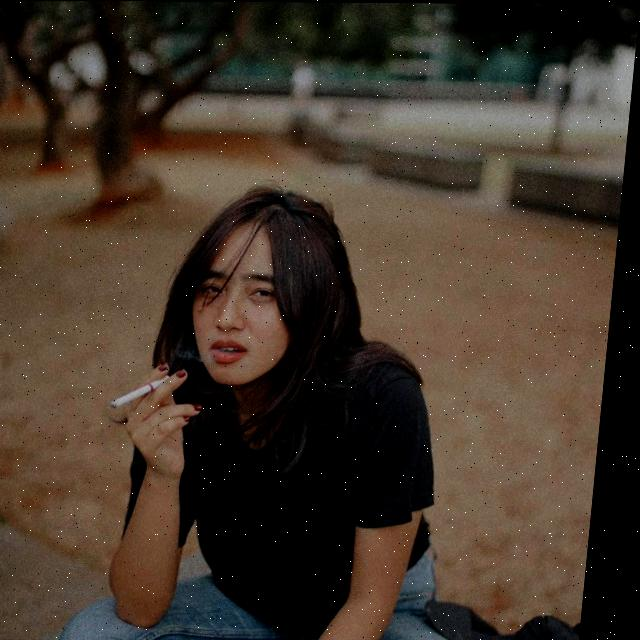cigarette: (116, 374, 179, 412)
